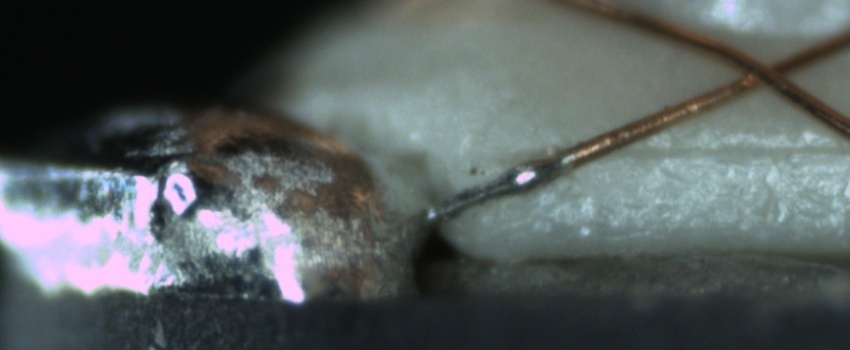CL: (718, 42, 808, 101)
DL: (621, 122, 850, 184)
TS: (429, 149, 576, 223)
TTCW: (425, 128, 617, 226)
